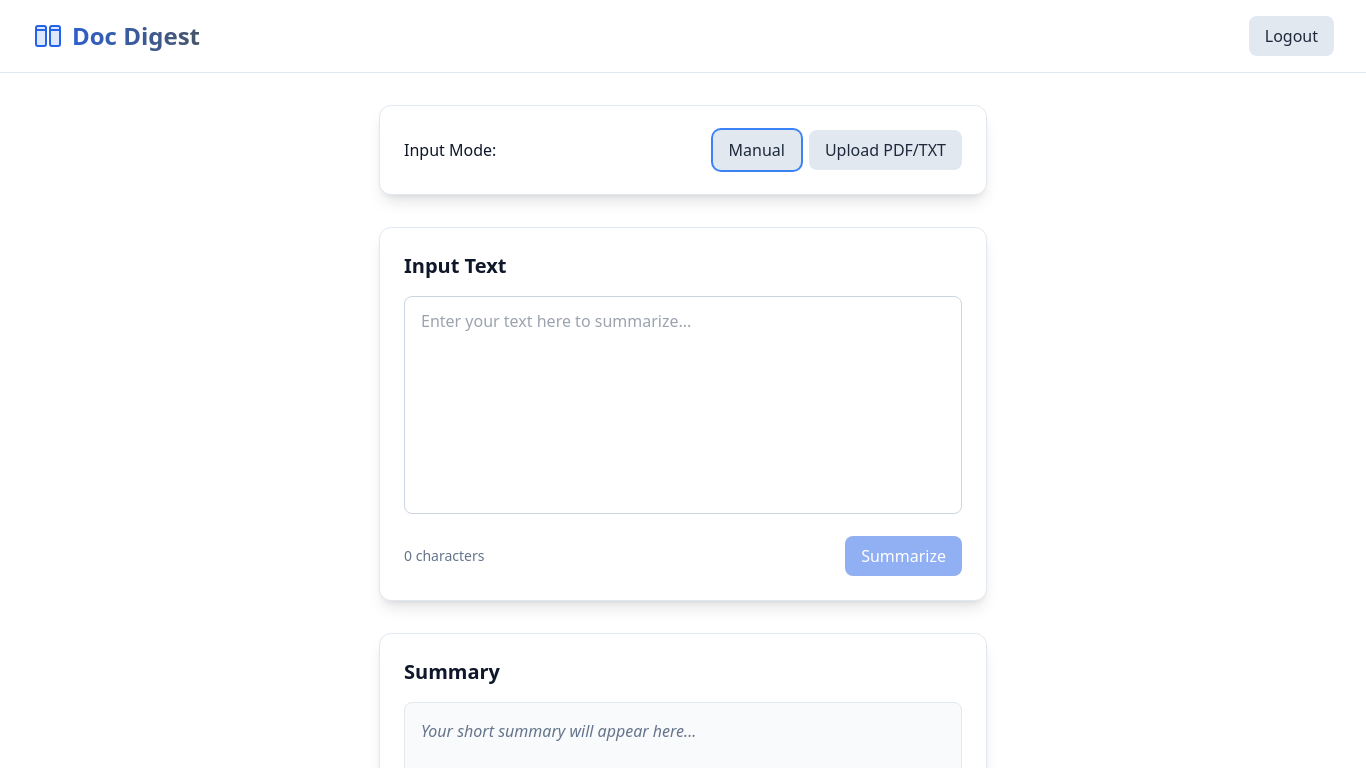
Test case: Home Component › asks a question and displays answer
The width and height of the screenshot is (1366, 768).
Type "Some text." into the text box with placeholder "Enter your text here to summarize...". click: (683, 405)
box: [404, 296, 962, 514]
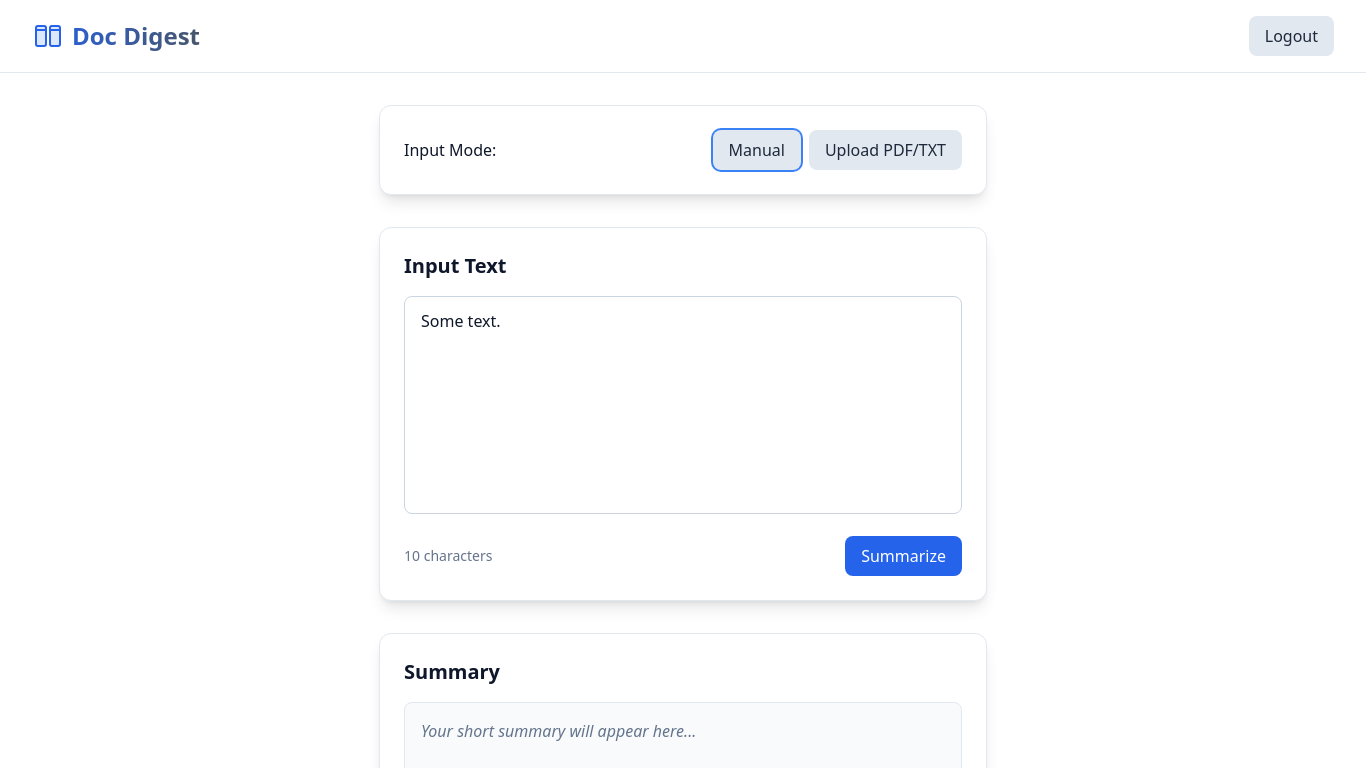
Click the button "Summarize". click: (904, 556)
box: [845, 536, 962, 576]
(page scrolled)
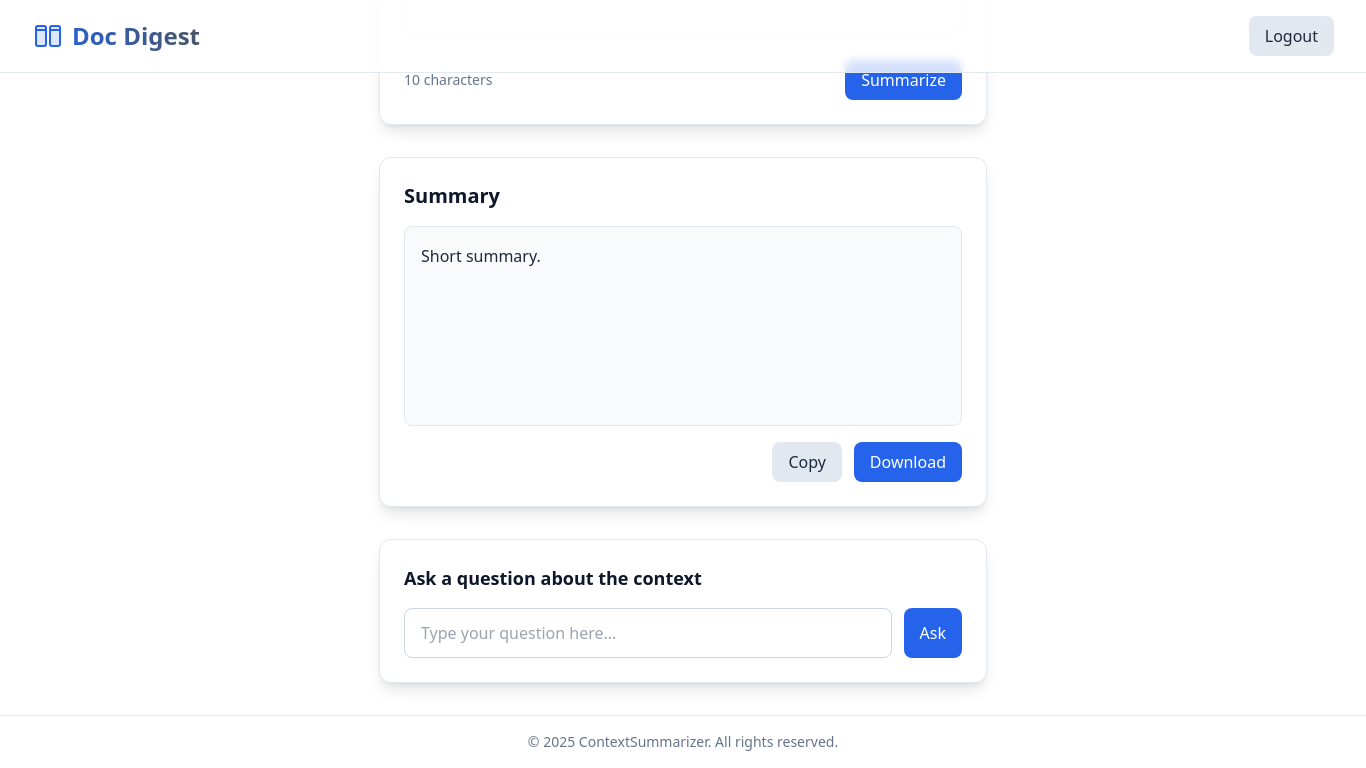
expect the text "Short summary." is shown: met, box [421, 245, 541, 267]
Type "What is this?" into the field with placeholder "Type your question here...". click: (648, 633)
box: [404, 608, 892, 658]
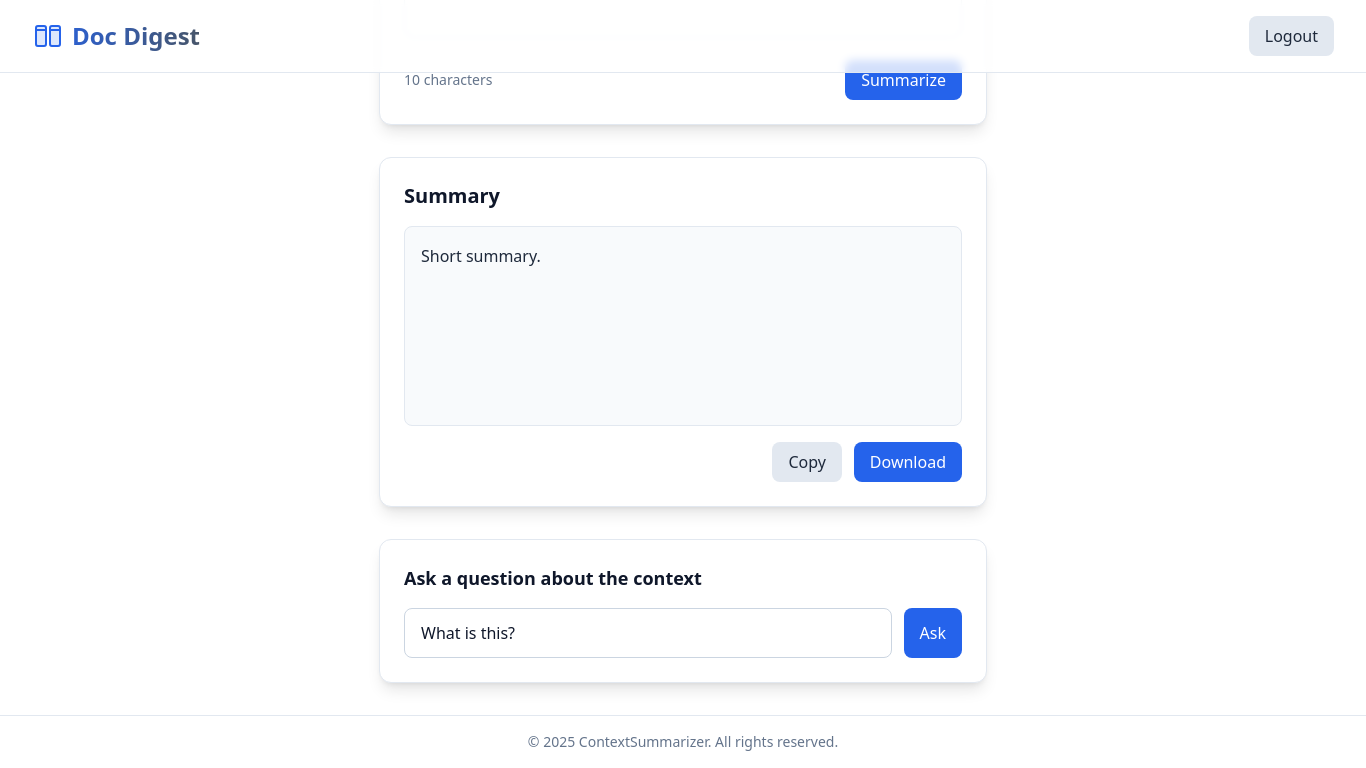
Click the button "Ask". click: (933, 633)
box: [904, 608, 962, 658]
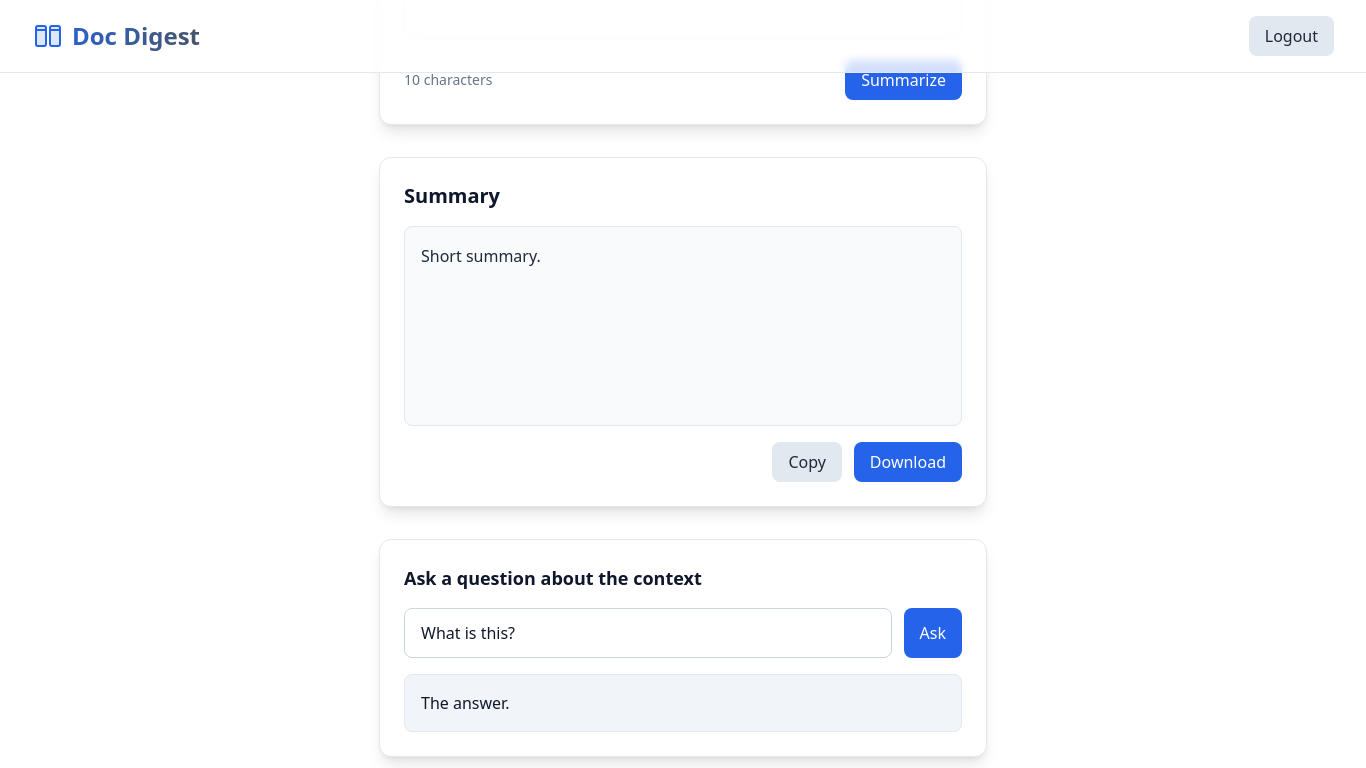
expect the text "The answer." is shown: met, box [421, 692, 509, 714]
